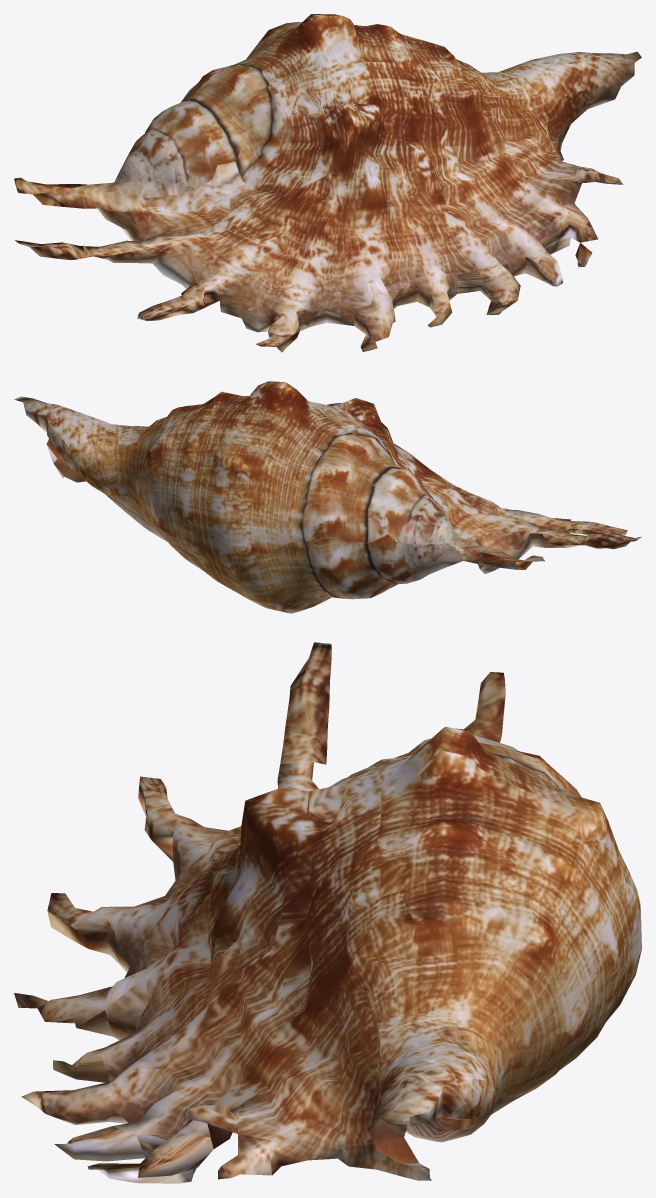
Rendered from shell.glb.
3 renders of one model, top to bottom at view 1: azimuth 30°, elevation 25°; view 2: azimuth 150°, elevation 25°; view 3: azimuth 270°, elevation 25°, orthographic. The views are drawn at different scales.
Parts seen in each view (by area): view 1: lambis_shell; view 2: lambis_shell; view 3: lambis_shell.
Part boxes in pixels (x1=…): lambis_shell: x1=14, y1=14, x2=641, y2=352; lambis_shell: x1=14, y1=381, x2=641, y2=613; lambis_shell: x1=14, y1=642, x2=641, y2=1183.
Bounding box in the file's own units: 0.1387 × 0.0457 × 0.0735.
1 material, 1 textured.
